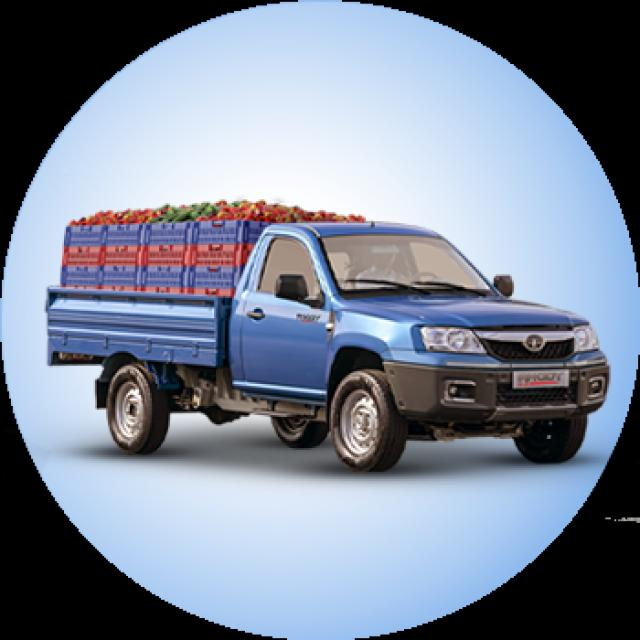light_vehicle: (241, 216, 598, 471)
